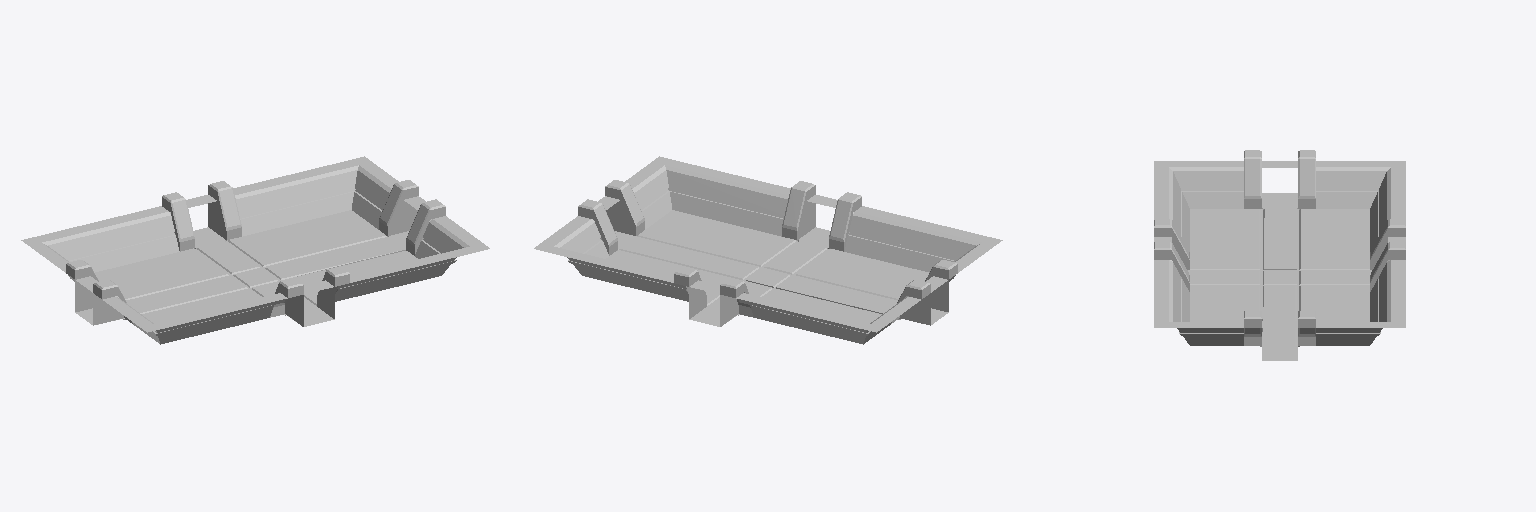
The model's file is room.obj.
The picture shows the model from 3 angles: view 1: azimuth 30°, elevation 25°; view 2: azimuth 150°, elevation 25°; view 3: azimuth 270°, elevation 25°; orthographic projection.
Parts seen in each view (by area): view 1: Room_Cube.001; view 2: Room_Cube.001; view 3: Room_Cube.001.
Boxes of the visible parts, box(x1,y1,x2,y2) form: Room_Cube.001: box(21, 156, 489, 344); Room_Cube.001: box(534, 156, 1002, 344); Room_Cube.001: box(1154, 150, 1405, 360).
Size of the model in its own units: 44 by 5.46 by 28.01.